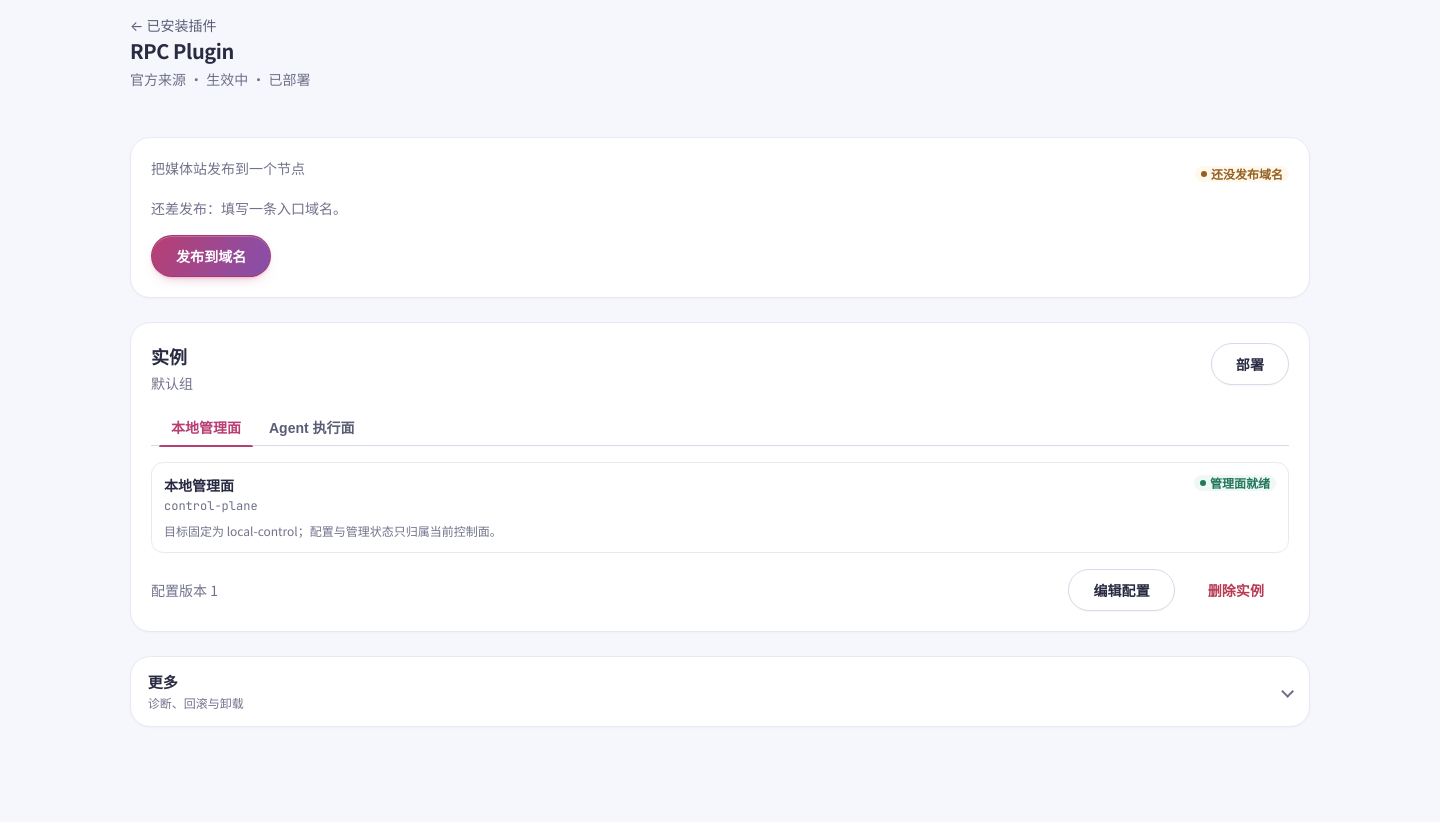
Scenario: PluginDetailPage task-center production API projection › separates local management from Agent execution generation and failures for a dual-face plugin
The image size is (1440, 822).
Expected: the element with test id "plugin-face-local-management" reads "本地管理面 control-plane 管理面就绪 目标固定为 local-control；配置与管理状态只归属当前控制面。", [164,475,234,495]
Click the tab "Agent 执行面": (312, 427) [257,409,367,445]
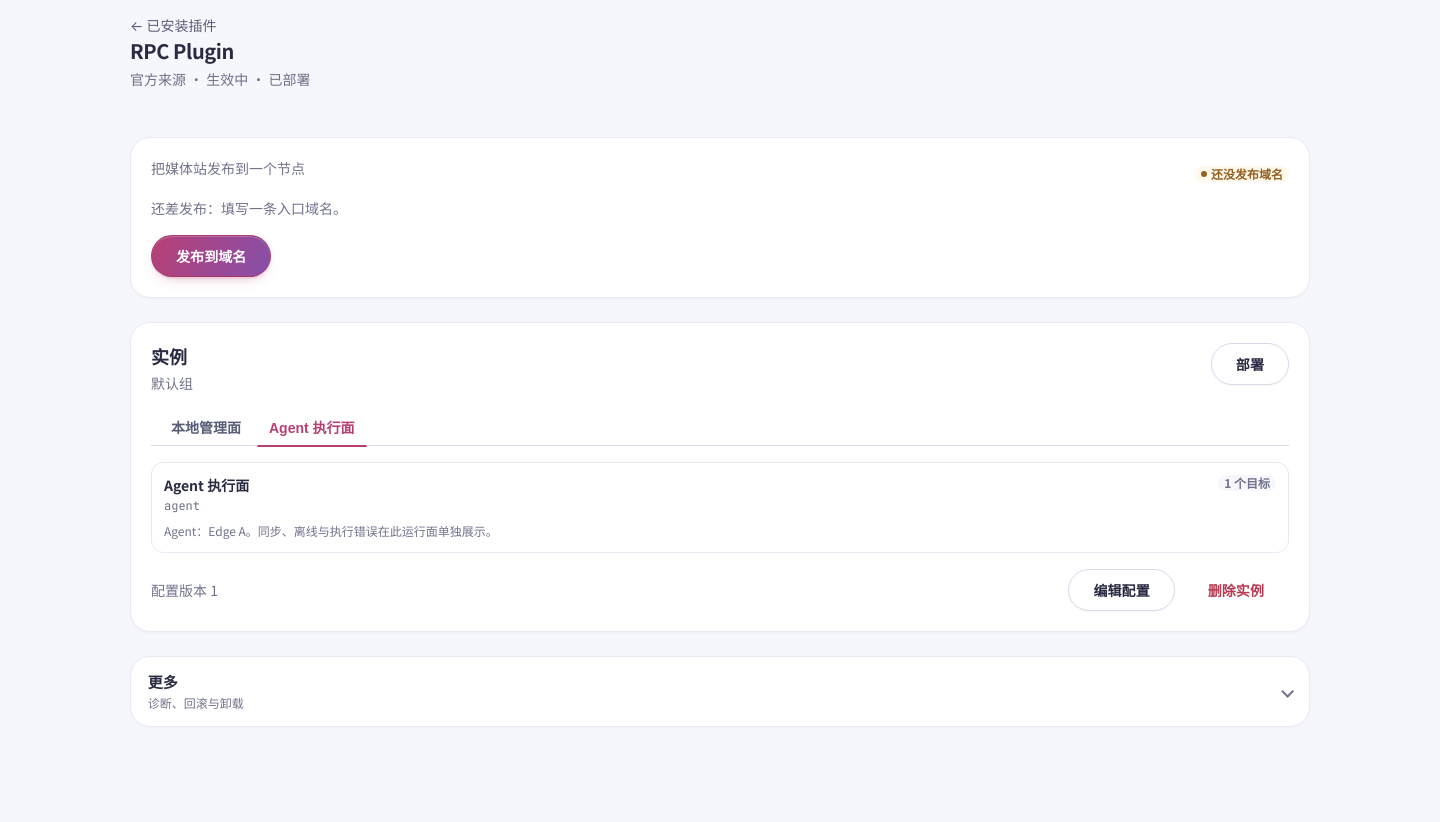
Expected: the element with test id "plugin-face-agent-execution" shows "Edge A", [164,522,498,539]
Expected: the element with test id "plugin-face-agent-execution" shows "Agent 执行面", [164,475,249,495]
